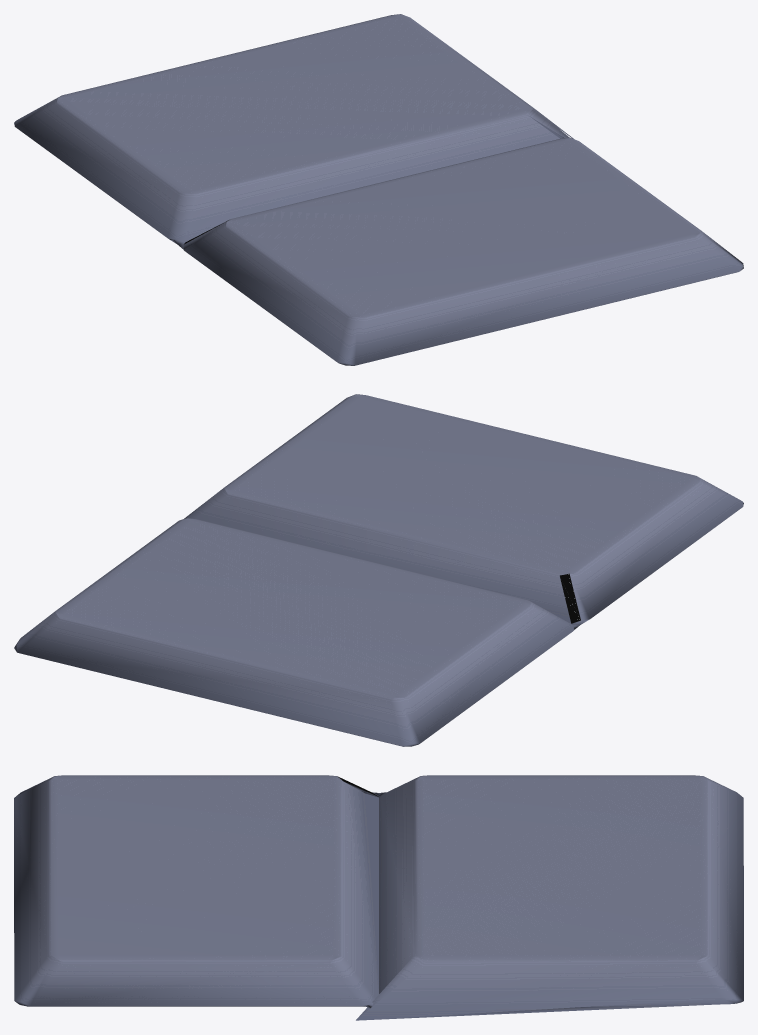
Rendered from path-stones-short.glb.
3 views of the same model, one above another, from view 1: azimuth 30°, elevation 25°; view 2: azimuth 150°, elevation 25°; view 3: azimuth 270°, elevation 25° (orthographic). The views are drawn at different scales.
Parts seen in each view (by area): view 1: path-stones-short; view 2: path-stones-short; view 3: path-stones-short.
Boxes of the visible parts, box(x1,y1,x2,y2) form: path-stones-short: box(14, 14, 743, 365); path-stones-short: box(14, 394, 743, 746); path-stones-short: box(14, 775, 743, 1020).
Size of the model in its own units: 0.1419 by 0.0126 by 0.1993.
1 material, 1 textured.
